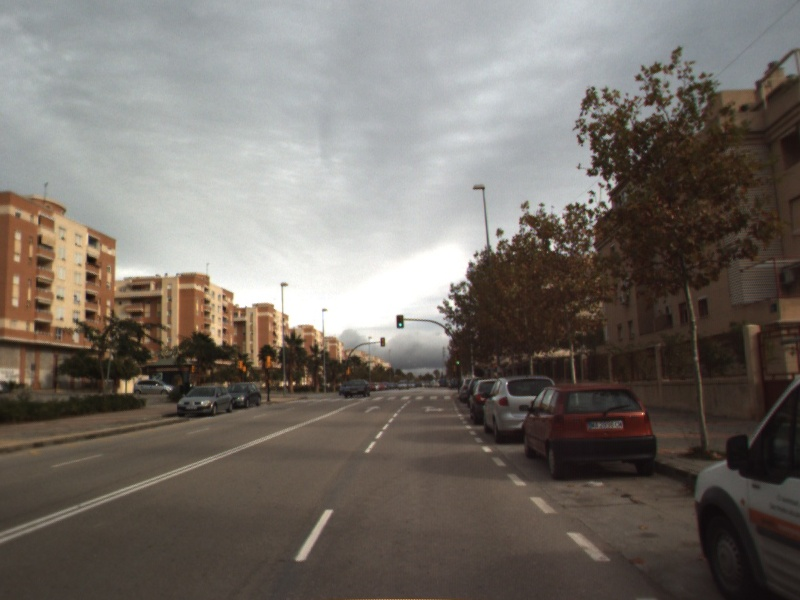STRAIGHT: (361, 403, 383, 415)
STRAIGHT_RIGHT: (419, 403, 447, 414)
